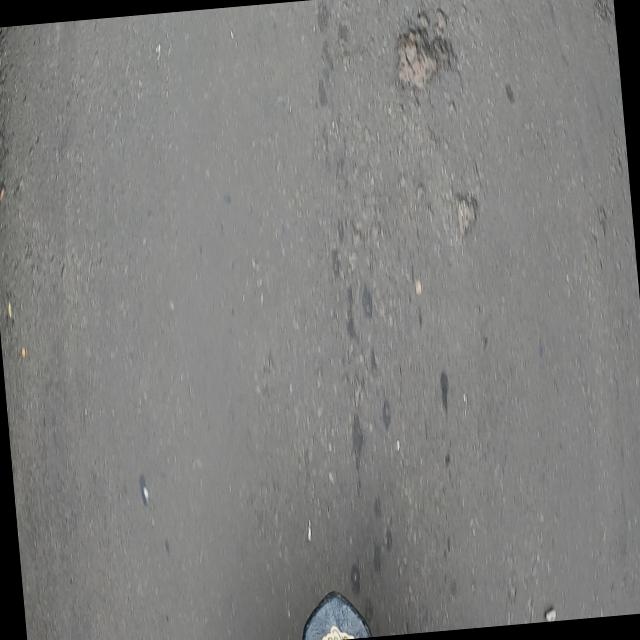Lubang: (397, 29, 449, 88)
